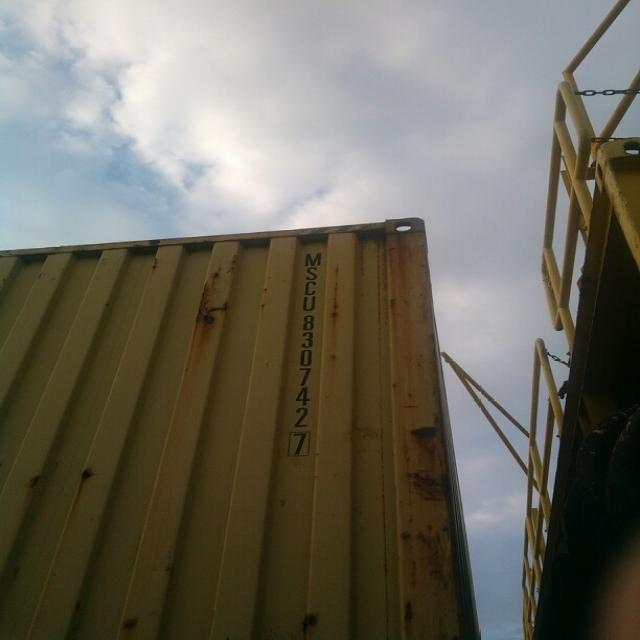rust: (396, 517, 474, 640), (196, 271, 232, 356), (403, 468, 459, 506), (429, 332, 450, 422), (328, 264, 344, 369), (73, 463, 101, 511), (376, 233, 384, 367), (408, 424, 446, 452), (22, 471, 50, 506), (296, 611, 325, 638), (119, 613, 146, 638), (151, 256, 164, 279)
